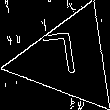L_S: (48, 32, 88, 87)
